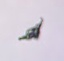microplastic: (17, 15, 44, 42)
